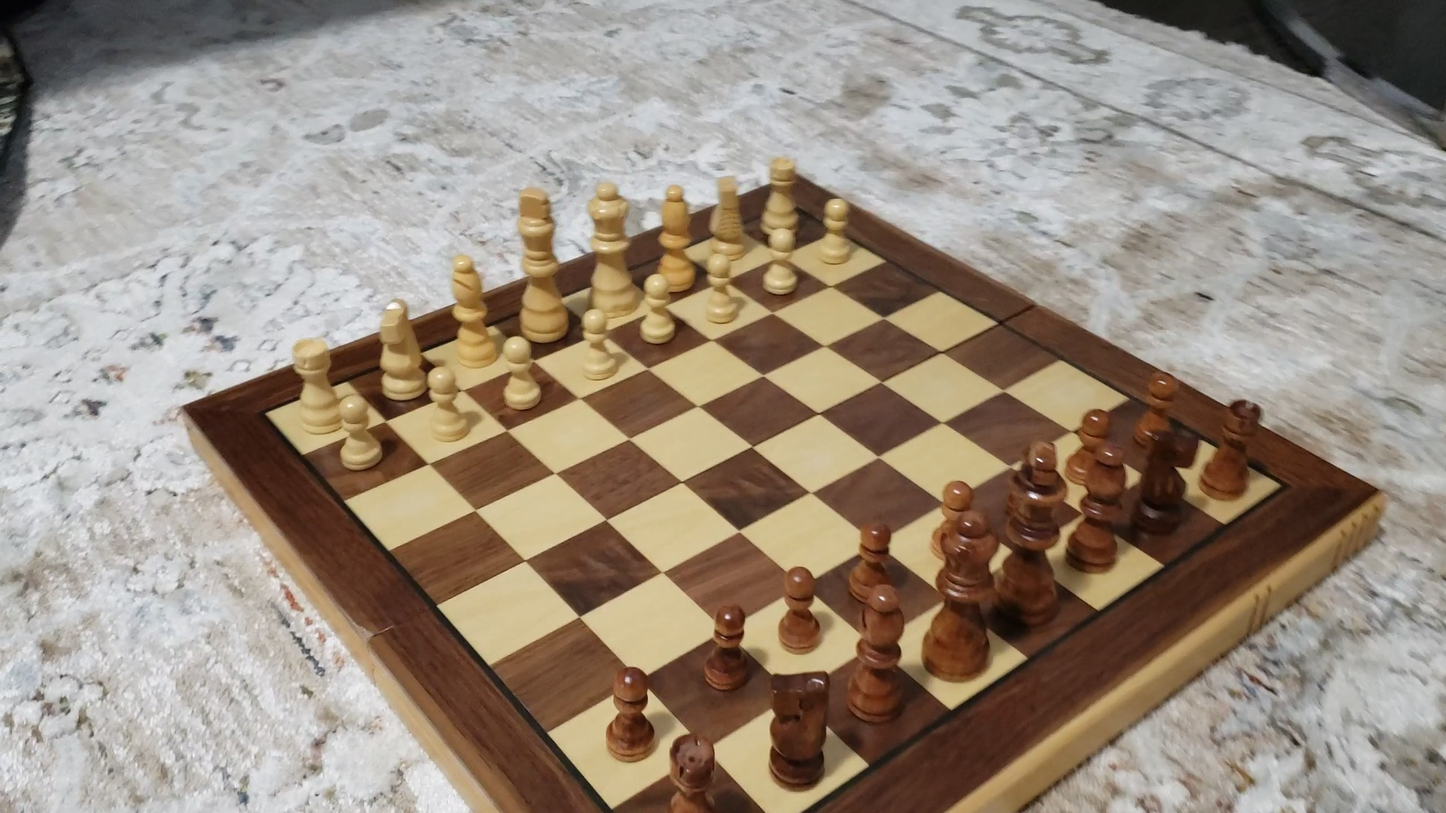black-bishop: (848, 582, 907, 725), (1069, 439, 1129, 570)
black-king: (994, 436, 1072, 632)
black-knight: (1131, 411, 1194, 536), (766, 669, 830, 788)
black-pawn: (602, 664, 656, 764), (700, 601, 752, 696), (846, 518, 898, 608), (1062, 405, 1116, 488), (1130, 367, 1182, 453), (776, 563, 824, 655), (929, 477, 978, 565)
black-queen: (921, 491, 1004, 684)
black-rook: (1199, 398, 1262, 501), (665, 730, 720, 811)
white-bishop: (446, 252, 498, 371), (656, 180, 695, 295)
white-king: (513, 182, 568, 346)
white-knight: (376, 296, 426, 404), (710, 169, 750, 265)
white-pawn: (330, 392, 387, 477), (420, 364, 475, 446), (696, 243, 747, 329), (495, 333, 547, 415), (571, 305, 623, 386), (755, 222, 805, 302), (634, 269, 682, 349), (812, 192, 859, 271)
white-queen: (587, 176, 637, 325)
white-rook: (290, 334, 343, 437), (760, 151, 803, 239)
